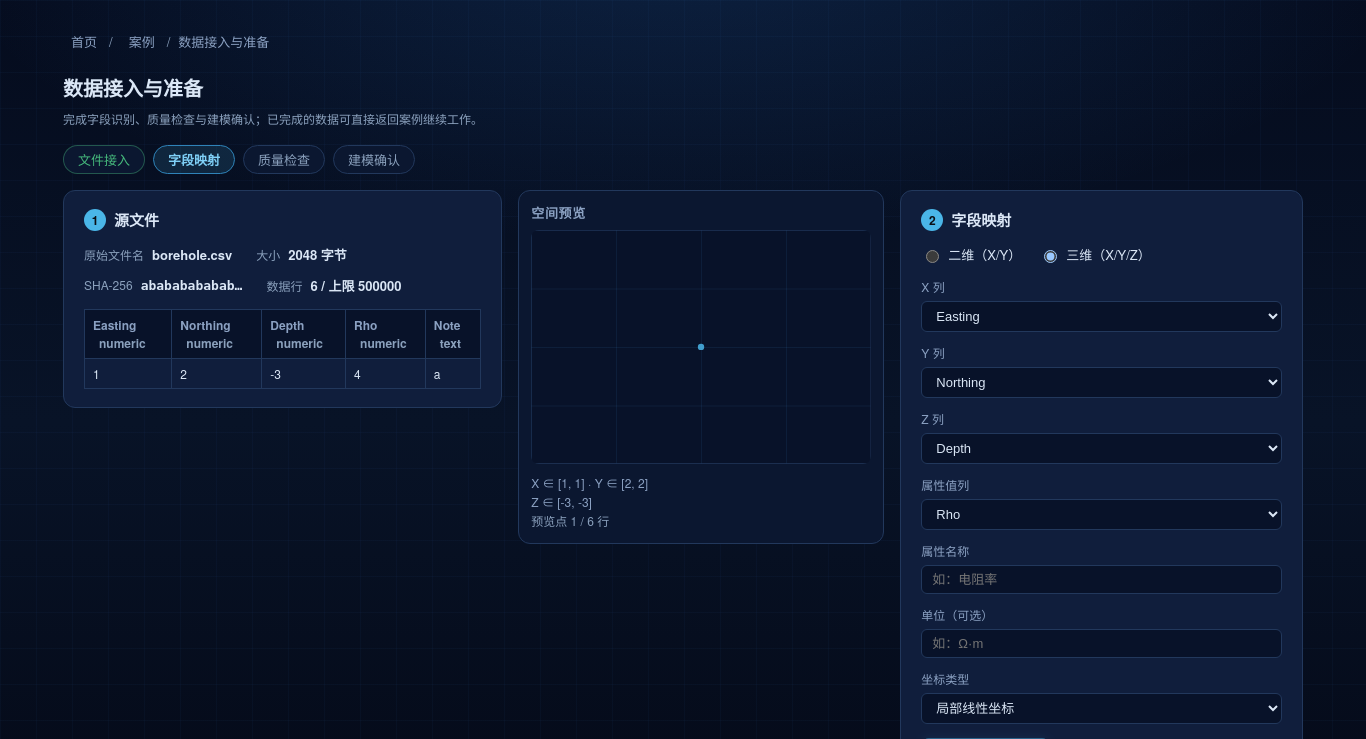
Test: DatasetWizardView › toggles z column select by 2D/3D dimension choice
This screenshot has width=1366, height=739.
Expected: the radio button with test id "dimension-3d" is checked, [1044,250,1057,262]
Expected: the dropdown with test id "mapping-z" is shown, [921,433,1282,464]
Step 1. Click the radio button with test id "dimension-2d" → (933, 256), box [926,250,939,262]
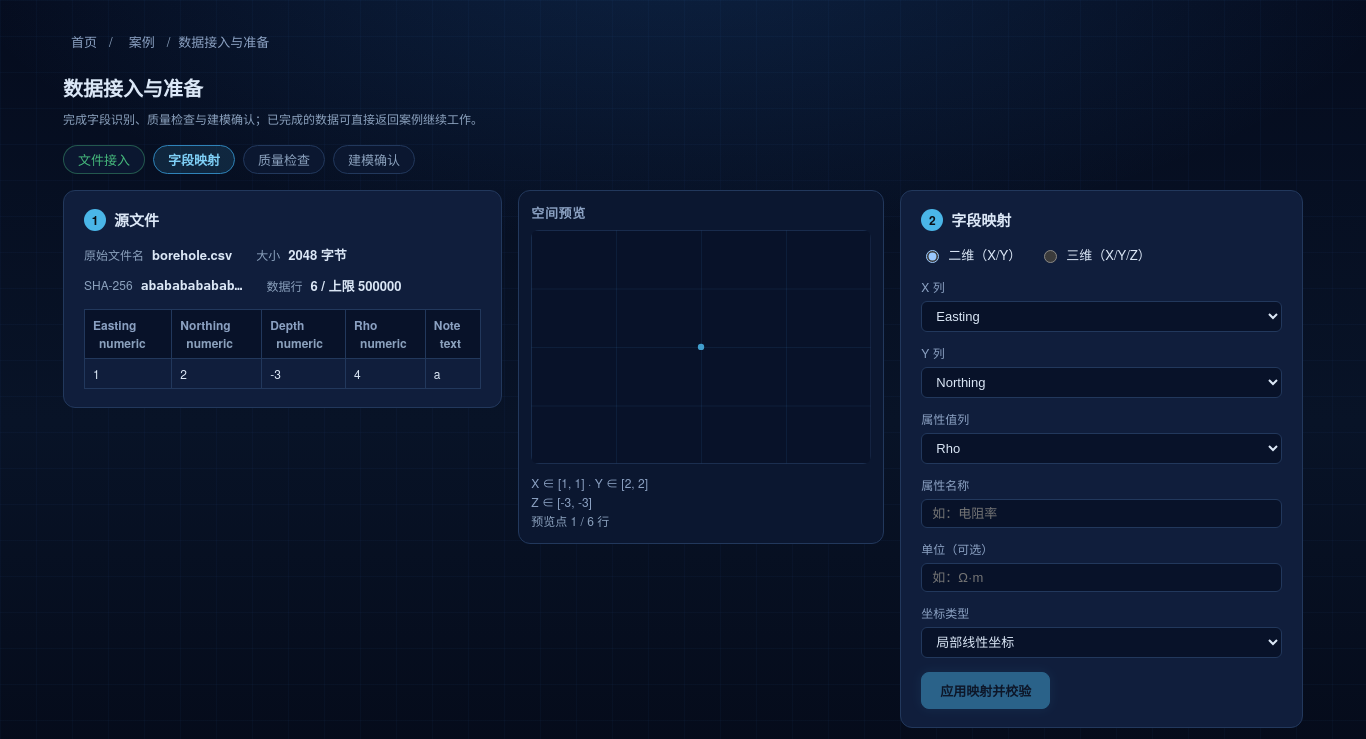
Step 2. Click the radio button with test id "dimension-3d" → (1051, 256), box [1044,250,1057,262]
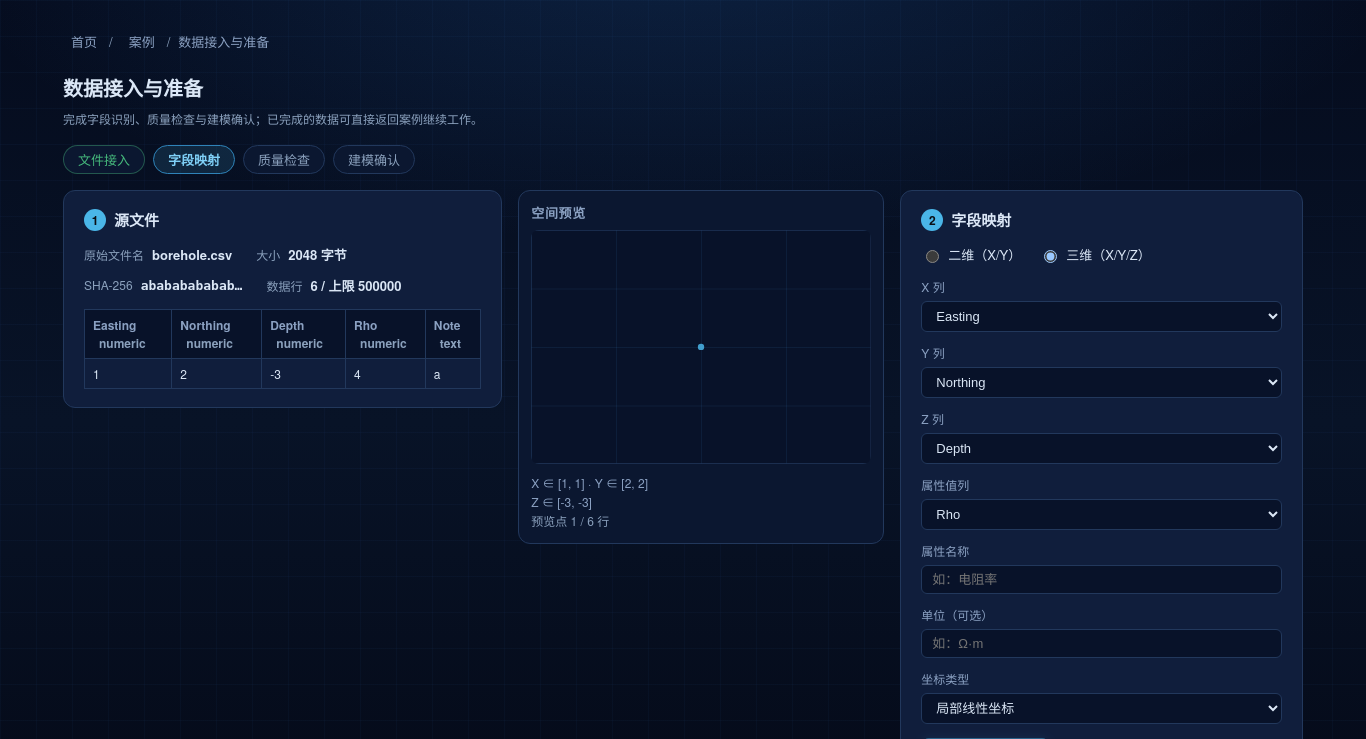
Result: the dropdown with test id "mapping-z" is shown at [921,433,1282,464]
